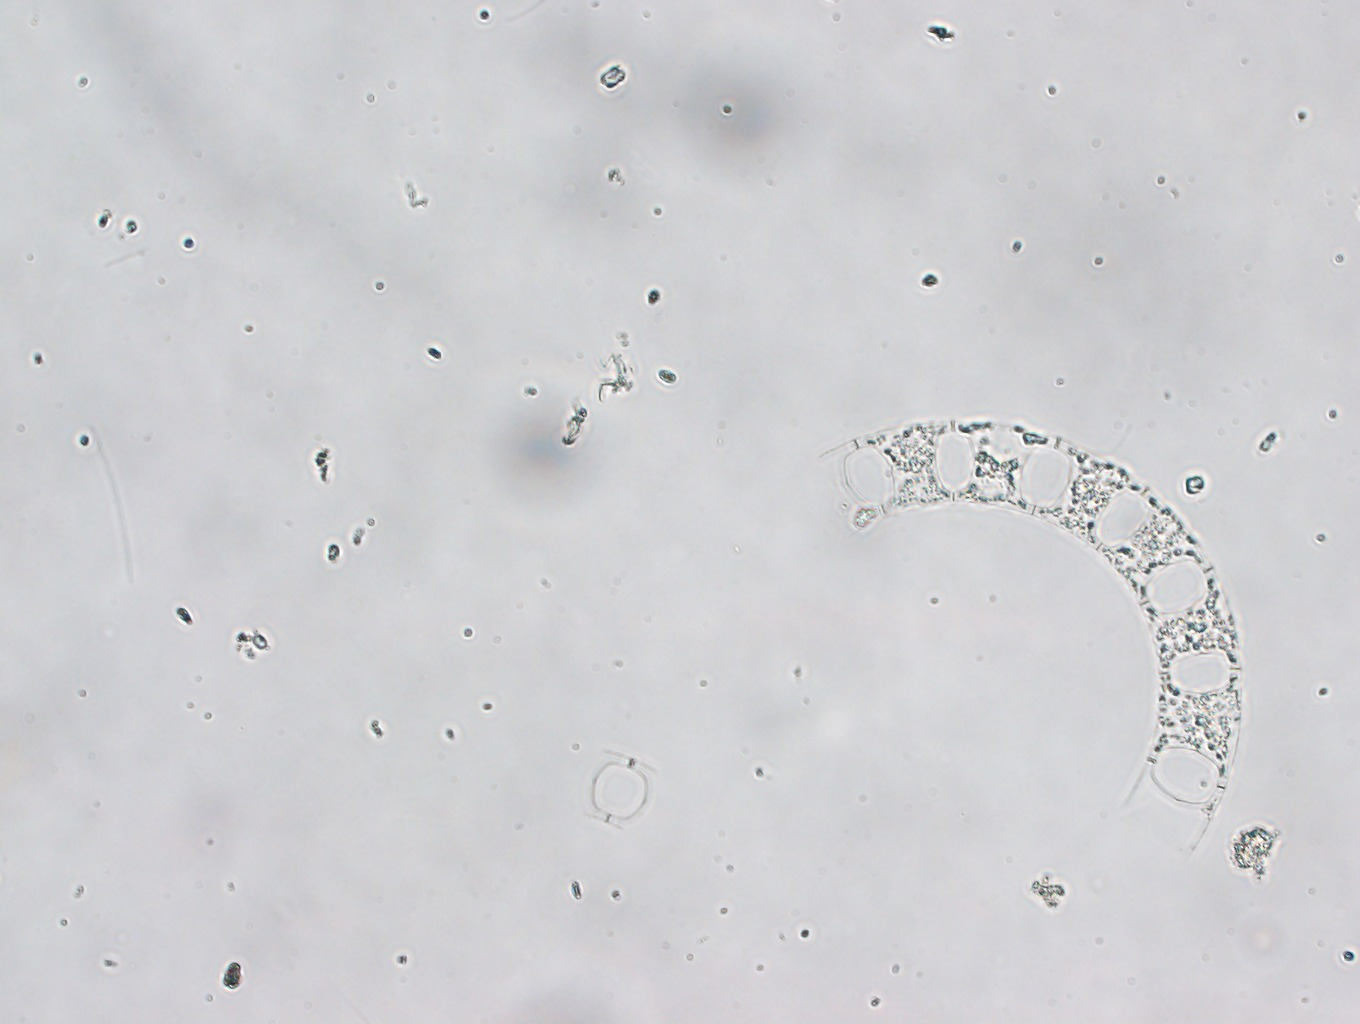eucampia: (815, 419, 1242, 849)
